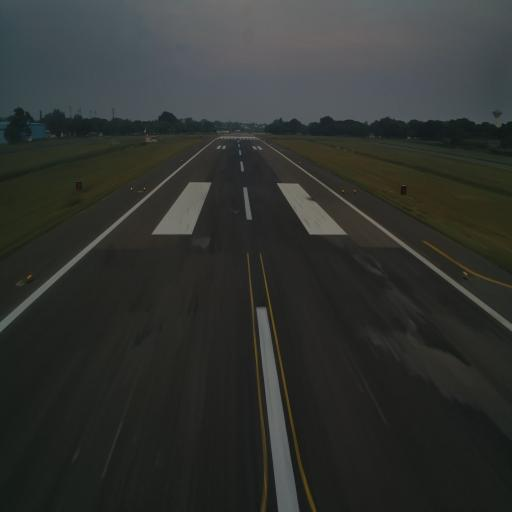on: (24, 270, 32, 282), (463, 268, 470, 280)
